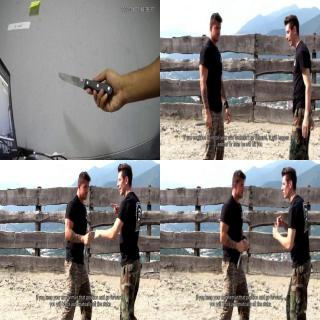knife: (58, 73, 116, 95), (82, 233, 92, 264), (236, 241, 244, 271), (193, 120, 213, 130)
